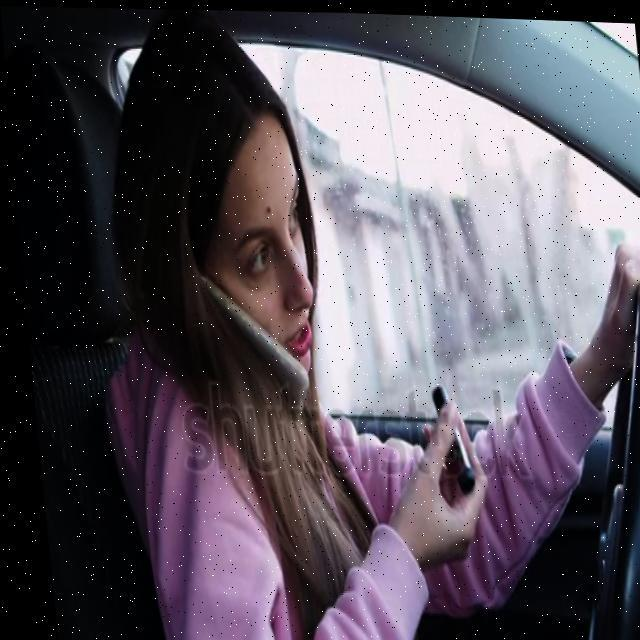PhoneCall: (194, 268, 310, 430)
